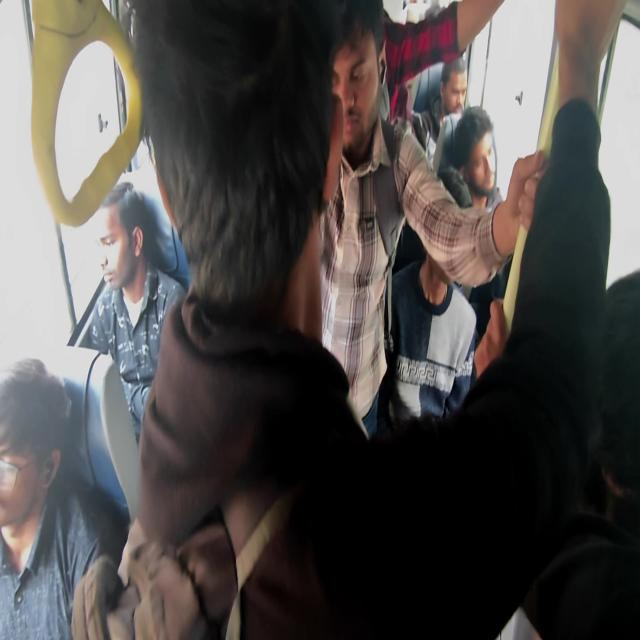person: (101, 1, 617, 637), (120, 1, 370, 637), (316, 1, 546, 438), (383, 104, 510, 429), (0, 356, 129, 638), (78, 181, 188, 445), (449, 105, 507, 337), (410, 55, 468, 172)
